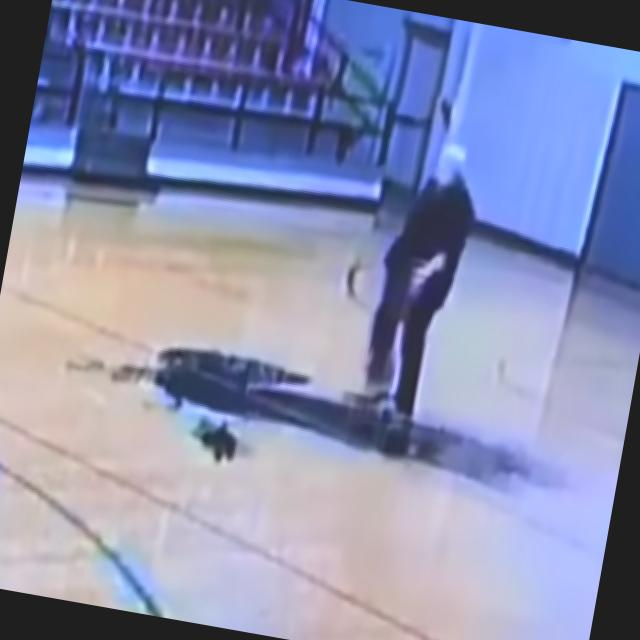person: (356, 135, 486, 421)
